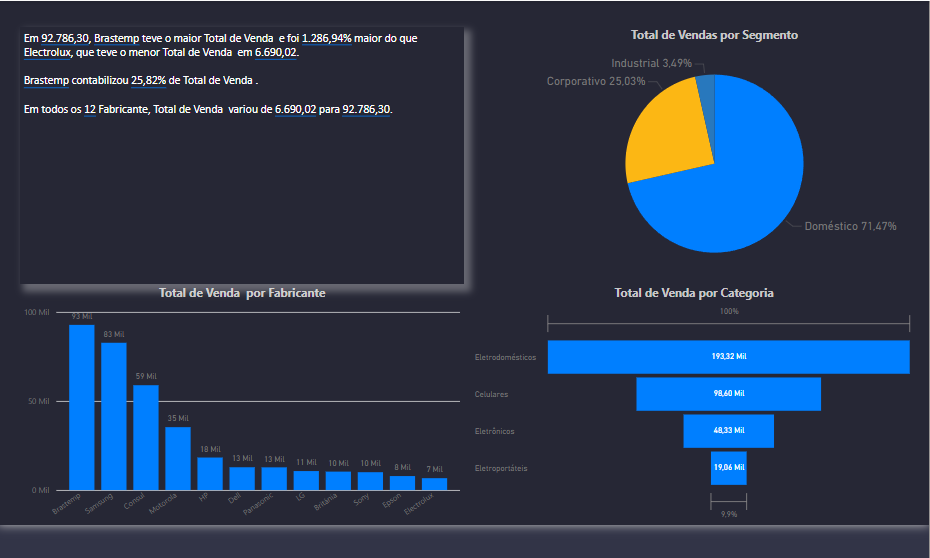

The dashboard page shown, as its layout file describes it:
{"tool":"powerbi","page":{"name":"Narrativa Inteligente","canvas":[1280,720],"ordinal":1},"visuals":[{"type":"pieChart","fields":{"Category":["Dados_Comerciais.Segmento"],"Y":["Sum(Dados_Comerciais.ValorVenda)"]},"box":[706.7,35.7,556.8,354.7],"z":0},{"type":"clusteredColumnChart","fields":{"Category":["Dados_Comerciais.Fabricante"],"Y":["Sum(Dados_Comerciais.ValorVenda)"]},"box":[30.2,390.5,610.4,330],"z":1},{"type":"funnel","fields":{"Category":["Dados_Comerciais.Categoria"],"Y":["Sum(Dados_Comerciais.ValorVenda)"]},"box":[650.3,390.5,613.2,330],"z":2},{"type":"textbox","box":[30,36,610,354],"z":3}]}

Visuals, with their boxes on the page's 1280x720 design canvas (x1, y1, x2, y2). These are canvas units, not pixel positions in the 930x558 screenshot, which may show the page scaled, cropped or inside an application window:
pieChart - Dados_Comerciais.Segmento x Sum(Dados_Comerciais.ValorVenda): box(707, 36, 1264, 390)
clusteredColumnChart - Dados_Comerciais.Fabricante x Sum(Dados_Comerciais.ValorVenda): box(30, 390, 641, 720)
funnel - Dados_Comerciais.Categoria x Sum(Dados_Comerciais.ValorVenda): box(650, 390, 1264, 720)
textbox: box(30, 36, 640, 390)
